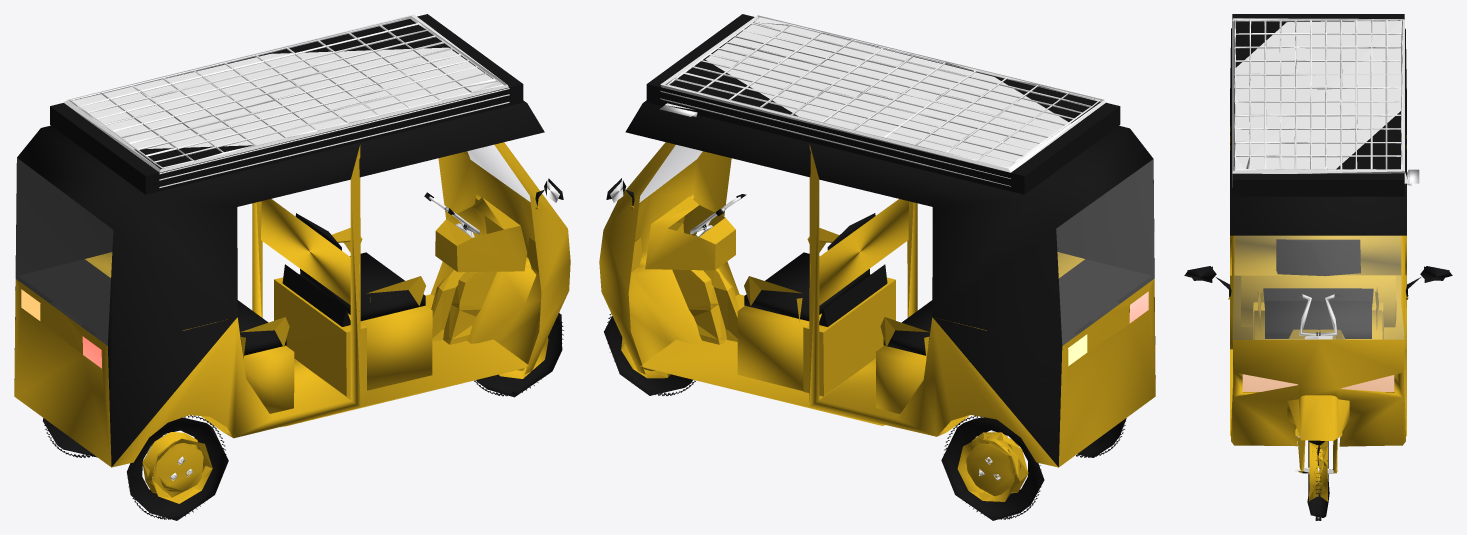
The model's file is keke.glb.
3 views of the same model, side by side, from view 1: azimuth 30°, elevation 25°; view 2: azimuth 150°, elevation 25°; view 3: azimuth 270°, elevation 25° (orthographic). The views are drawn at different scales.
Visible parts, largest first — view 1: keke; view 2: keke; view 3: keke.
Boxes of the visible parts, x1,y1,x2,y2 form: keke: (14,14,570,520); keke: (599,14,1155,520); keke: (1184,14,1452,520).
Size of the model in its own units: 2.64 by 1.8 by 1.36.
